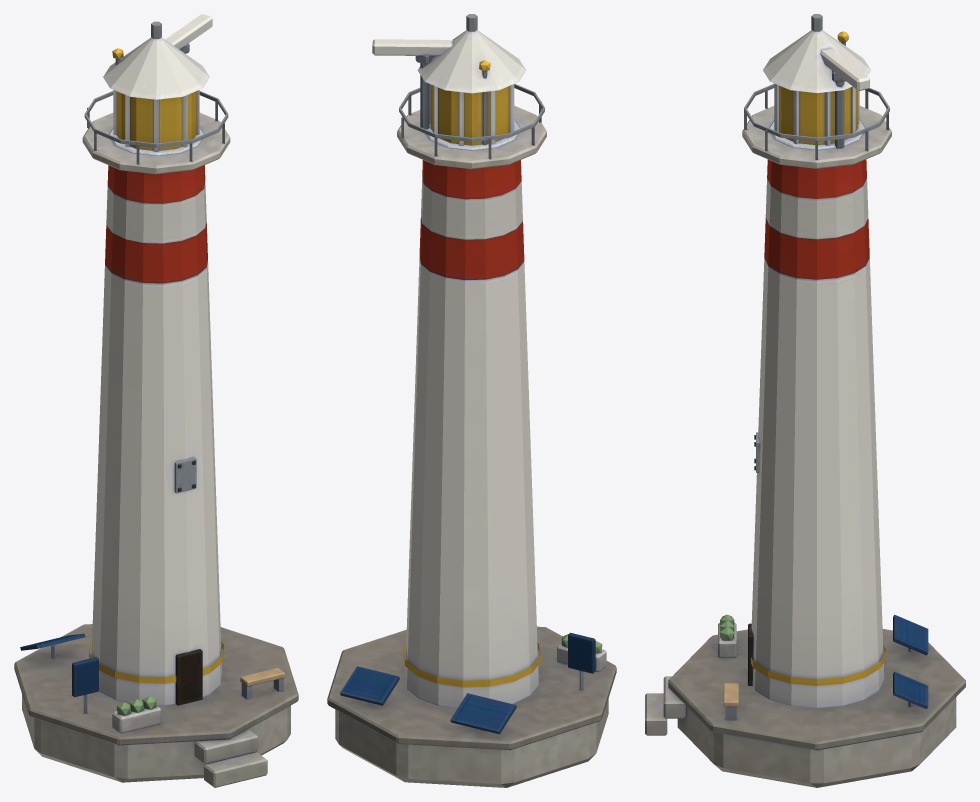
The model's file is lighthouse-25.glb.
The picture shows the model from 3 angles, left to right: view 1: azimuth 30°, elevation 25°; view 2: azimuth 150°, elevation 25°; view 3: azimuth 270°, elevation 25°; orthographic projection.
Parts seen in each view (by area): view 1: lighthouse-25; view 2: lighthouse-25; view 3: lighthouse-25.
Part boxes in pixels (box(x1,y1,x2,y2)): lighthouse-25: box(14, 14, 298, 787); lighthouse-25: box(327, 14, 616, 787); lighthouse-25: box(645, 14, 965, 787).
Size of the model in its own units: 1.59 by 4.22 by 1.72.
Materials: 1 (1 with a texture image).
